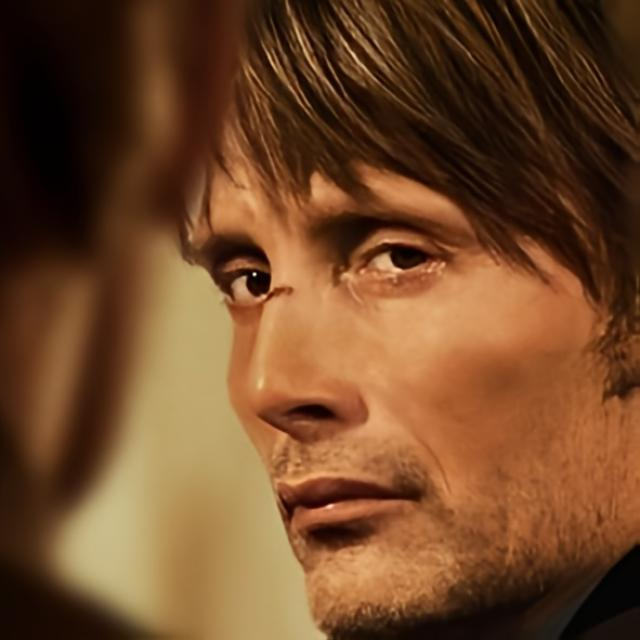neutral: (182, 55, 640, 640)
